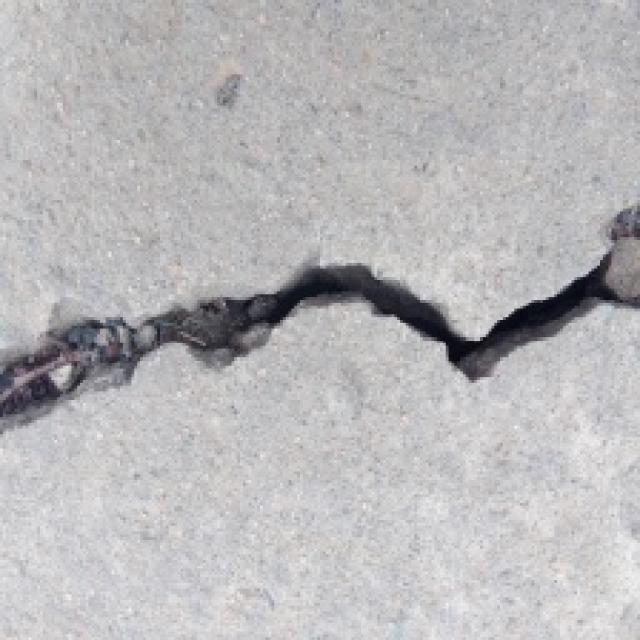crack: (0, 204, 640, 432)
